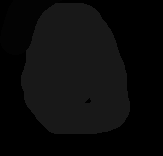fp: (9, 1, 137, 134)
